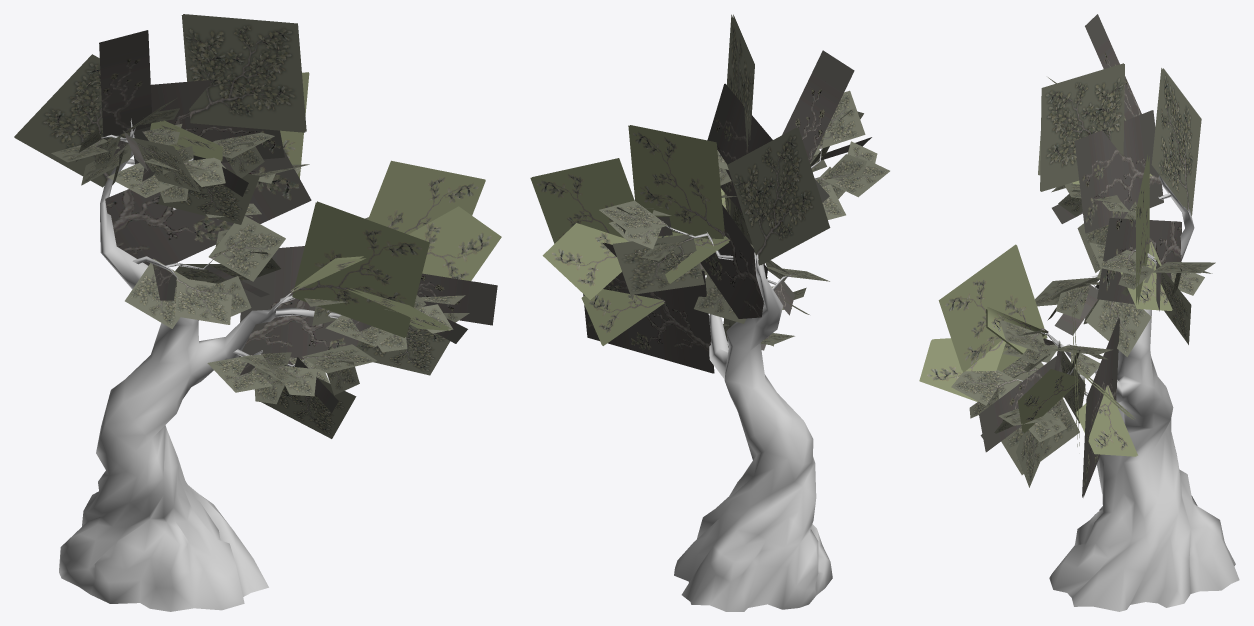
The model's file is Swamp_Tree_Straight_A.fbx.
The picture shows the model from 3 angles, left to right: view 1: azimuth 30°, elevation 25°; view 2: azimuth 150°, elevation 25°; view 3: azimuth 270°, elevation 25°; orthographic projection. The views are drawn at different scales.
Parts seen in each view (by area): view 1: Swamp_Tree_Straight_A; view 2: Swamp_Tree_Straight_A; view 3: Swamp_Tree_Straight_A.
Boxes of the visible parts, x1,y1,x2,y2 form: Swamp_Tree_Straight_A: (14, 14, 501, 611); Swamp_Tree_Straight_A: (530, 14, 889, 611); Swamp_Tree_Straight_A: (919, 14, 1239, 611).
Bounding box in the file's own units: 332 × 448 × 245.
